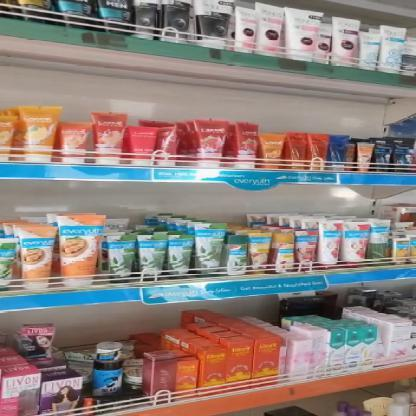EY EXF WALNUT SCRUB AYR 200G: (59, 216, 97, 284), (21, 223, 51, 289)
EY NATURALS NEEM FACE WASH AY 50G: (192, 224, 224, 274), (106, 236, 132, 282), (169, 232, 194, 277), (138, 234, 163, 274), (0, 240, 18, 288)
